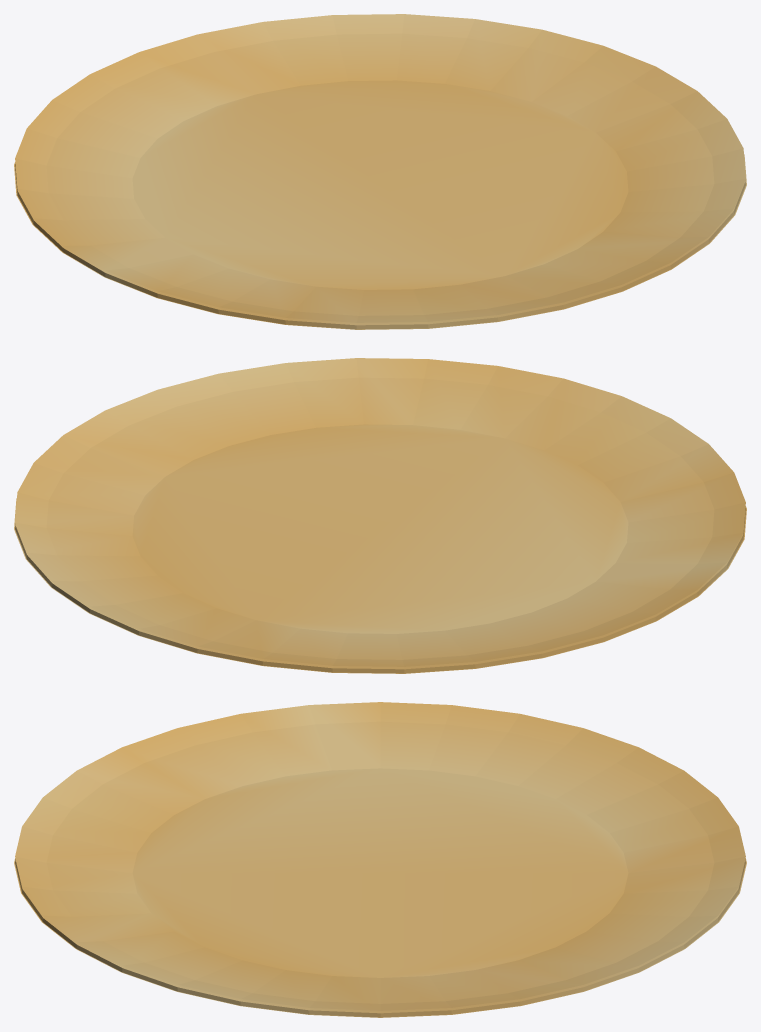
File: plate.gltf
The picture shows the model from 3 angles, top to bottom: view 1: azimuth 30°, elevation 25°; view 2: azimuth 150°, elevation 25°; view 3: azimuth 270°, elevation 25°; orthographic projection.
Parts seen in each view (by area): view 1: Circle; view 2: Circle; view 3: Circle.
Part boxes in pixels (bbox=[...]): Circle: bbox=[14, 14, 746, 329]; Circle: bbox=[14, 358, 746, 673]; Circle: bbox=[14, 702, 746, 1017].
Size of the model in its own units: 0.3957 by 0.0218 by 0.3957.
